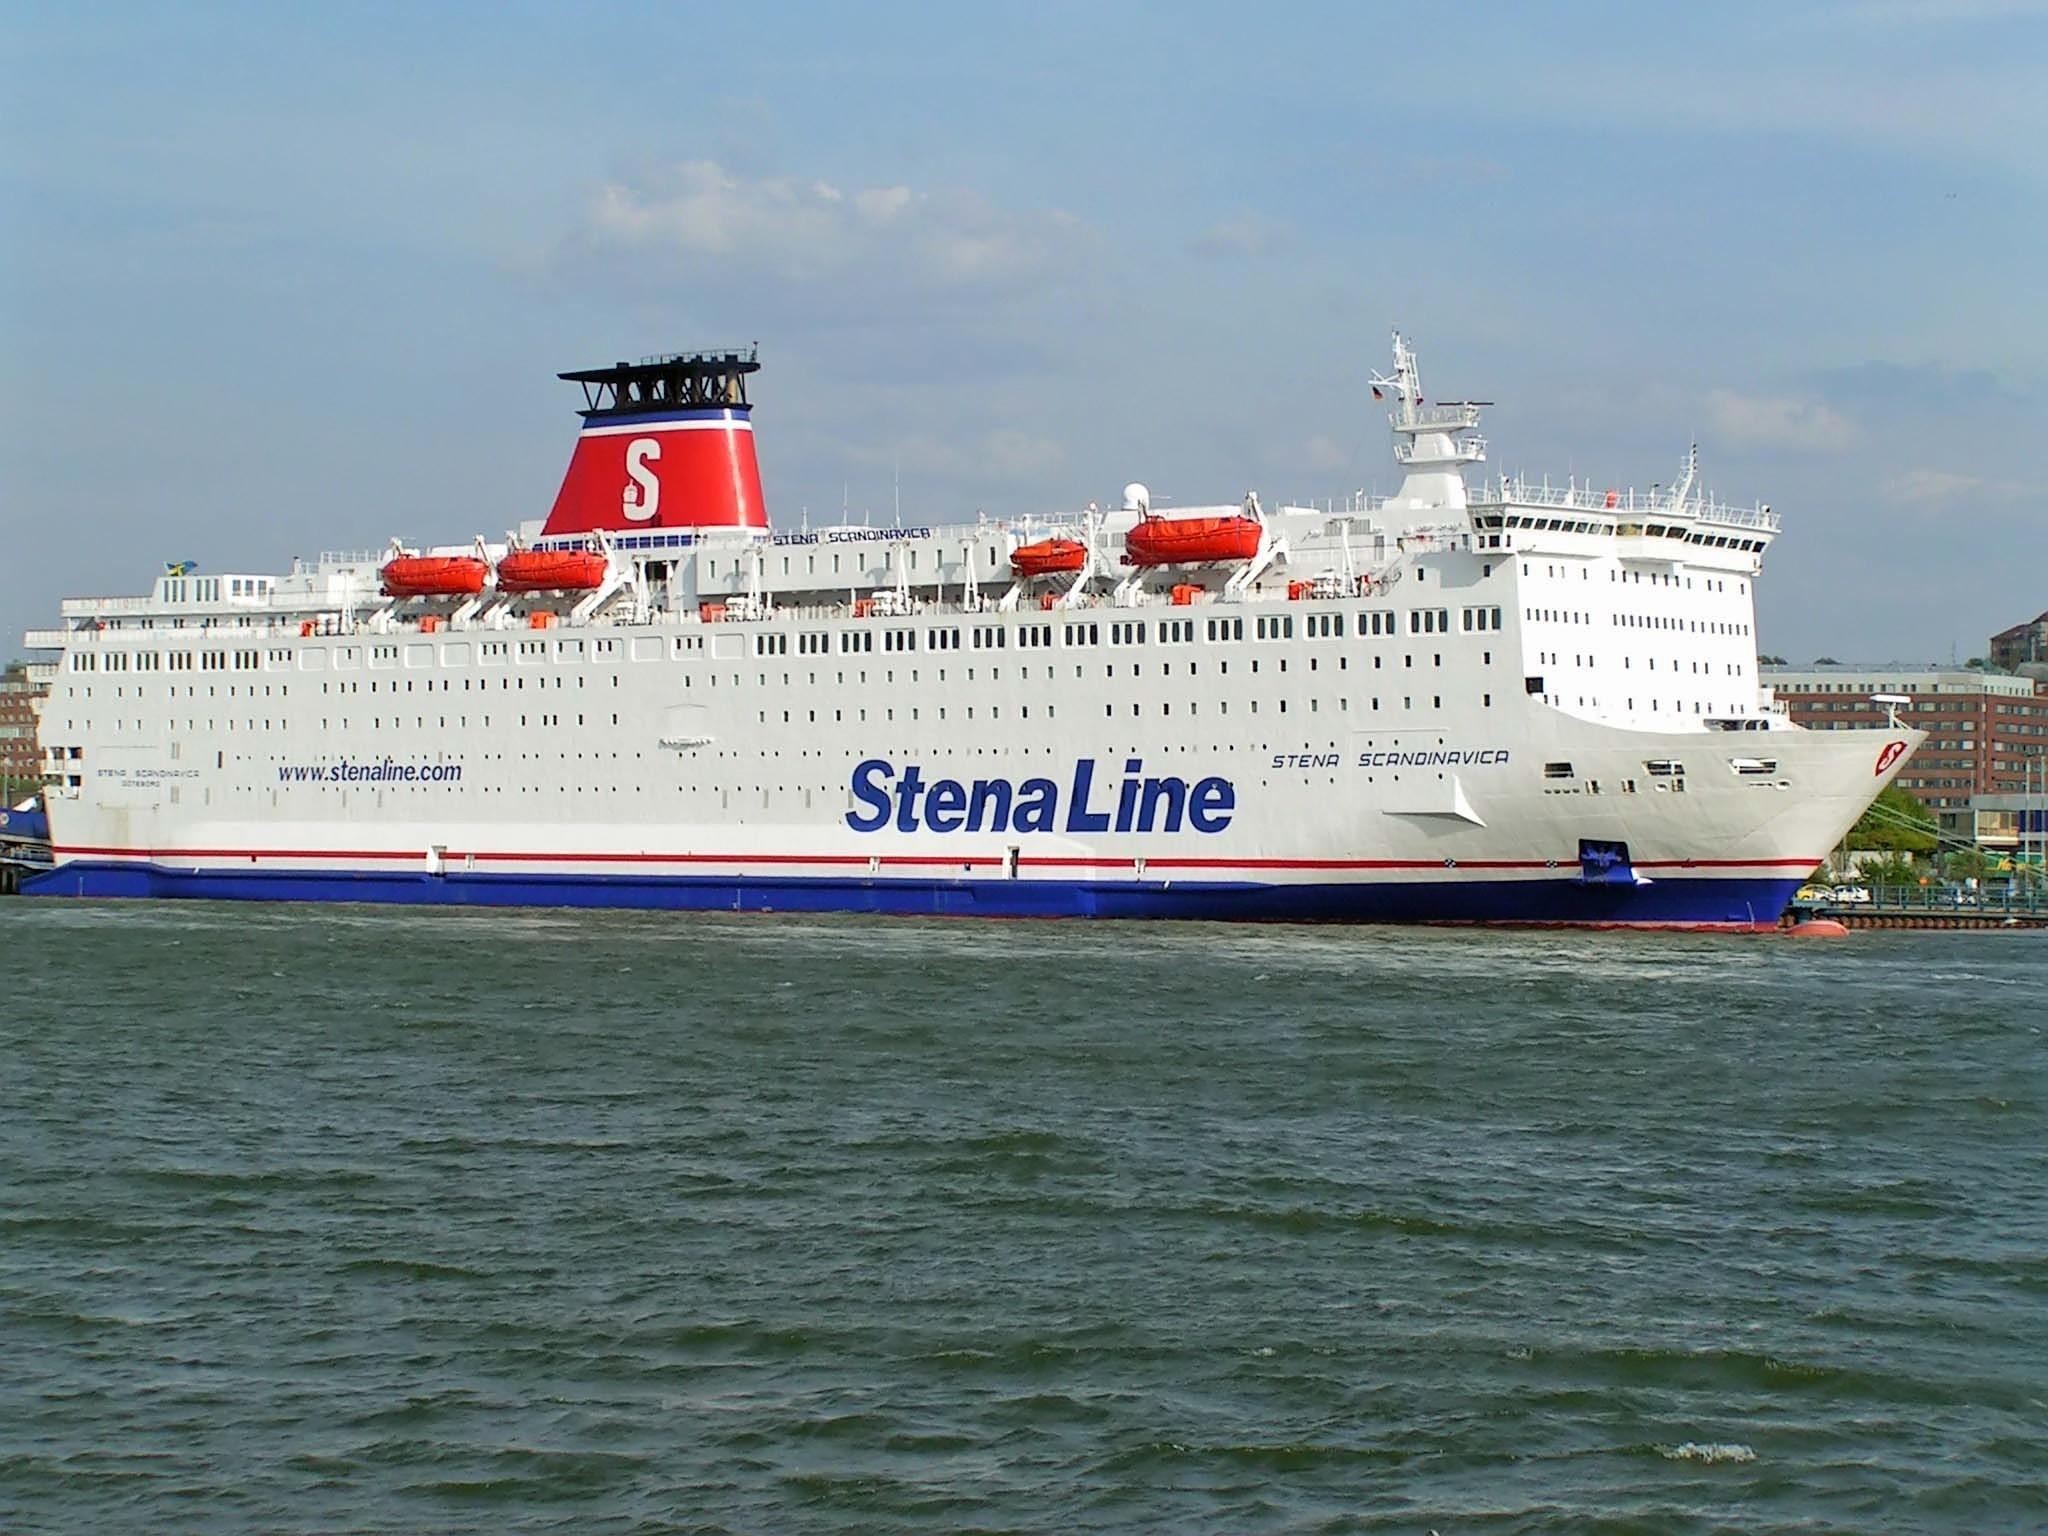youlun: (18, 344, 1937, 933)
